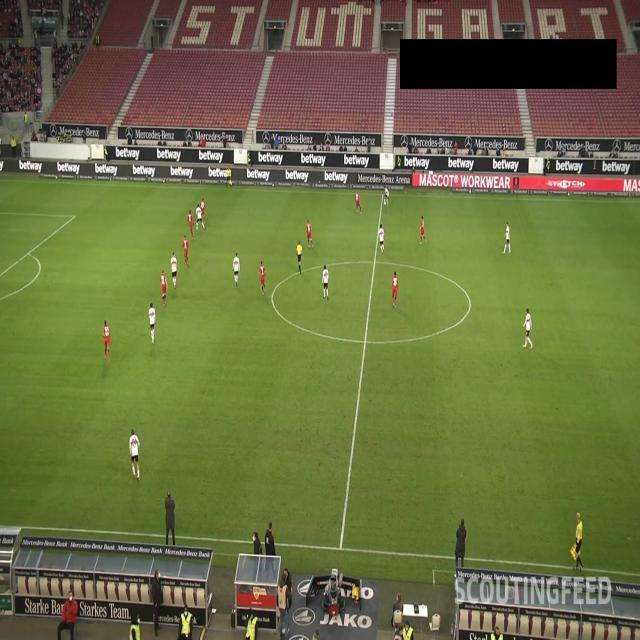ball: (383, 200, 387, 207)
